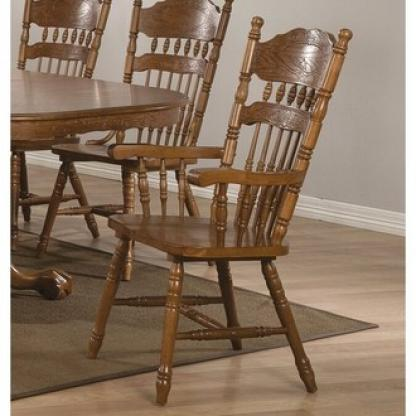chair: (103, 11, 352, 364), (72, 0, 240, 265), (12, 2, 116, 239)
table: (0, 49, 201, 301)
